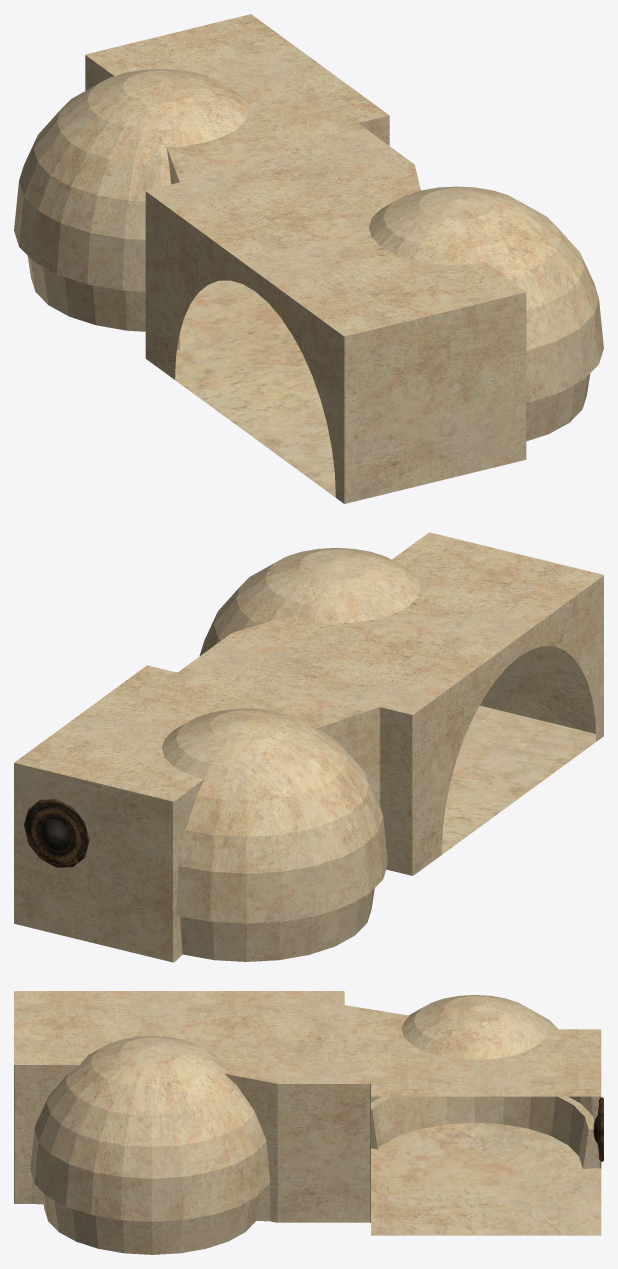
The model's file is thm_tato_cantina_r2_foyer2_mesh_r2.fbx.
3 views of the same model, one above another, from view 1: azimuth 30°, elevation 25°; view 2: azimuth 150°, elevation 25°; view 3: azimuth 270°, elevation 25° (orthographic). The views are drawn at different scales.
Visible parts, largest first — view 1: mesh_node; view 2: mesh_node; view 3: mesh_node.
Part boxes in pixels (left/top/right/bottom): mesh_node: left=14, top=14, right=603, bottom=503; mesh_node: left=14, top=532, right=603, bottom=962; mesh_node: left=14, top=991, right=603, bottom=1254.
Bounding box in the file's own units: 8.9 × 4.67 × 15.39.
